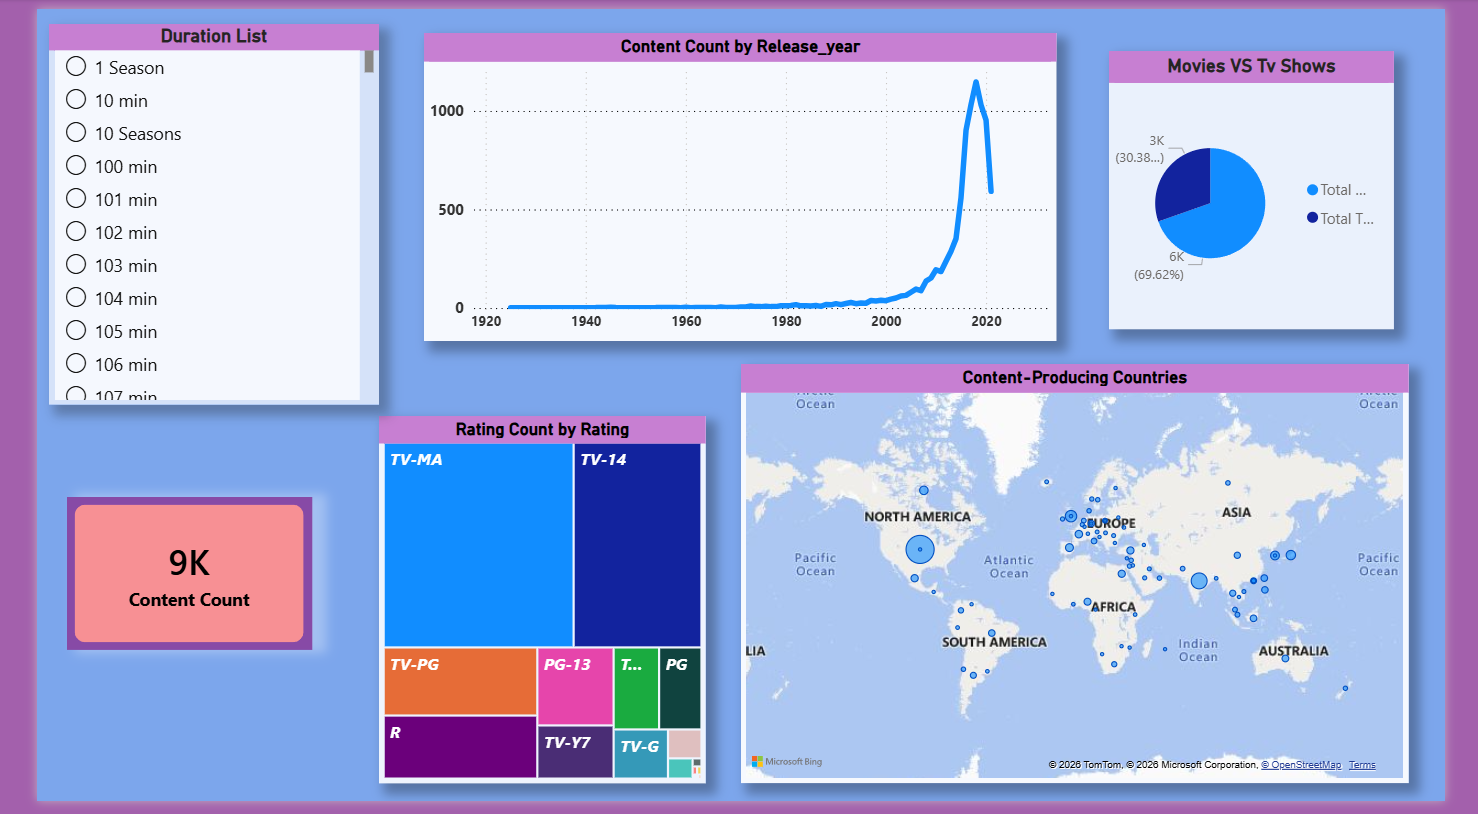

The dashboard page shown, as its layout file describes it:
{"tool":"powerbi","page":{"name":"Netflix_Titles Analysis","canvas":[1280,720],"ordinal":2},"visuals":[{"type":"pieChart","title":"Movies VS Tv Shows","fields":{"Y":["netflix_db netflix_titles.Total Movies","netflix_db netflix_titles.Total Tv Shows"]},"box":[974.5,38.2,259.1,252.7],"z":0},{"type":"lineChart","fields":{"Y":["netflix_db netflix_titles.Content Count"],"Category":["netflix_db netflix_titles.Release_year"]},"box":[351.8,21.8,575.5,280],"z":1000},{"type":"treemap","fields":{"Values":["netflix_db netflix_titles.Rating Count"],"Group":["netflix_db netflix_titles.Rating"]},"box":[310.9,370,297.3,333.6],"z":2000},{"type":"map","title":"Content-Producing Countries","fields":{"Category":["netflix_db netflix_titles.Country"],"Size":["netflix_db netflix_titles.Content Count"]},"box":[640,322.7,607.3,380.9],"z":3000},{"type":"cardVisual","fields":{"Data":["netflix_db netflix_titles.Content Count"]},"box":[27.3,443.6,222.7,139.1],"z":4000},{"type":"listSlicer","title":"Duration List","fields":{"Values":["netflix_db netflix_titles.Duration"]},"box":[10.9,13.6,300,346.4],"z":5000}]}

Visuals, with their boxes in screenshot pixels (x1, y1, x2, y2), scaled from the page's 1280x720 canvas onto the 1478x814 screenshot:
"Movies VS Tv Shows" pieChart: (1125,43,1424,329)
lineChart - netflix_db netflix_titles.Content Count x netflix_db netflix_titles.Release_year: (406,25,1071,341)
treemap - netflix_db netflix_titles.Rating Count x netflix_db netflix_titles.Rating: (359,418,702,795)
"Content-Producing Countries" map: (739,365,1440,795)
cardVisual - netflix_db netflix_titles.Content Count: (32,502,289,659)
"Duration List" listSlicer: (13,15,359,407)
